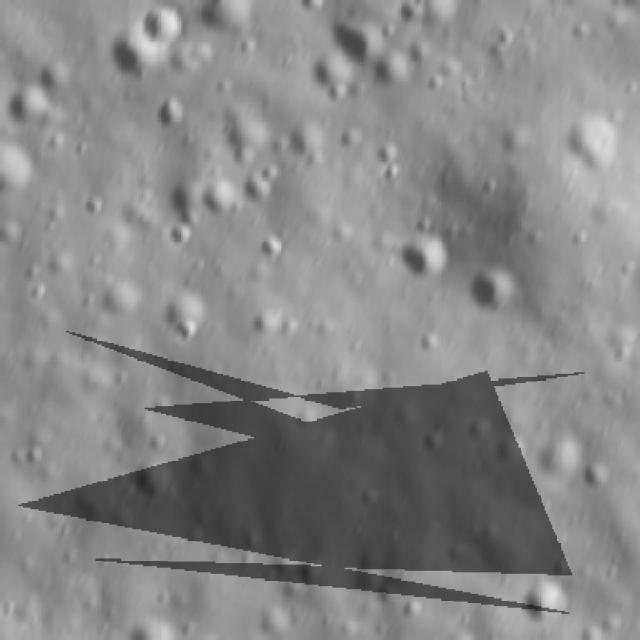crater: (323, 10, 383, 76), (161, 282, 214, 352), (107, 32, 164, 85), (391, 235, 446, 288), (130, 458, 181, 509), (462, 272, 520, 313), (522, 583, 576, 625), (5, 86, 47, 128), (195, 180, 236, 222), (152, 98, 192, 139), (36, 58, 70, 98), (256, 230, 290, 267), (240, 174, 277, 206), (585, 468, 618, 495), (410, 215, 436, 238)
